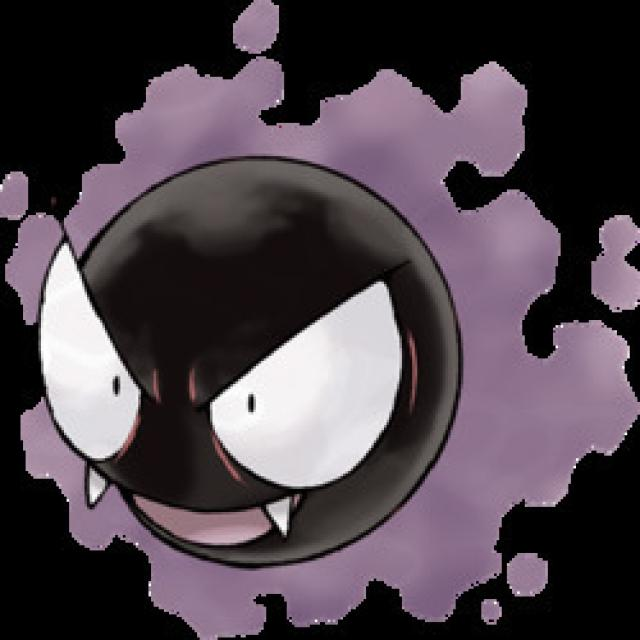Gastly: (17, 69, 542, 571)
